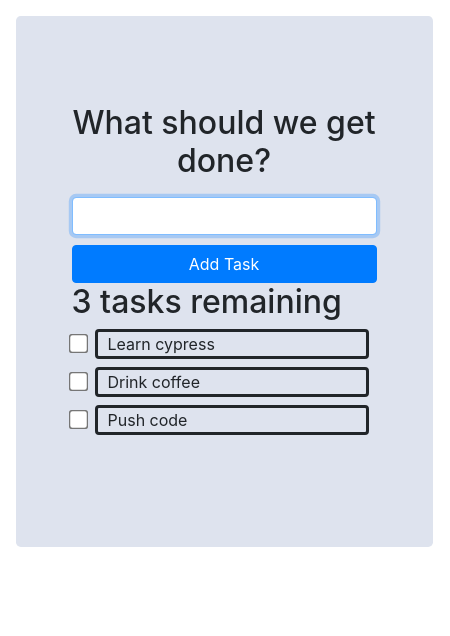
Test: The task list › checks if you can delete a task
The image size is (450, 636).
Click the label with test id "todo-label" showing "Learn cypress": (161,344) [95, 329, 370, 359]
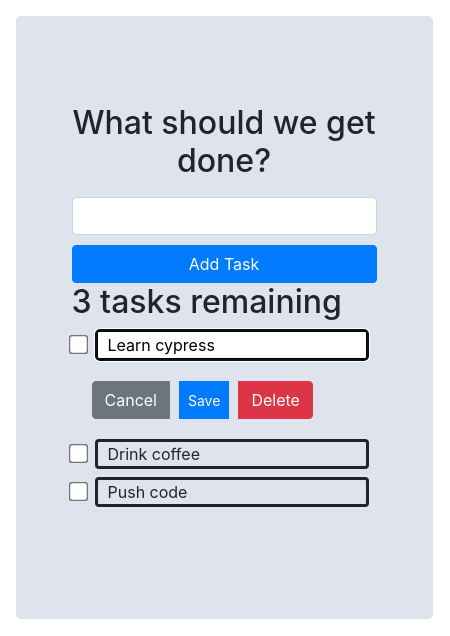
Click the button with test id "todo-btn-delete": (276,400) [238, 381, 313, 419]
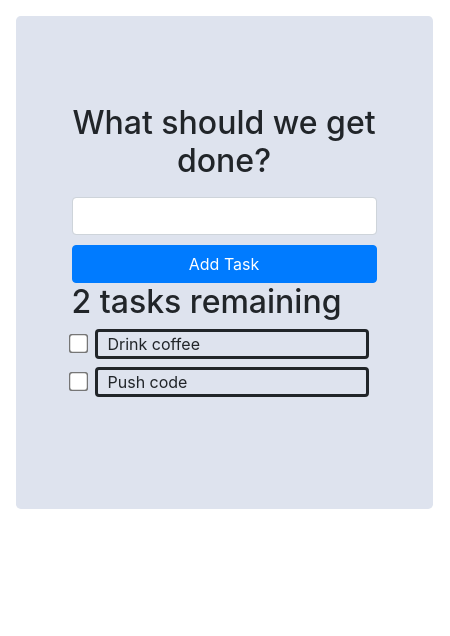
Result: the heading with id "list-heading" shows "2" at [72, 282, 342, 321]
